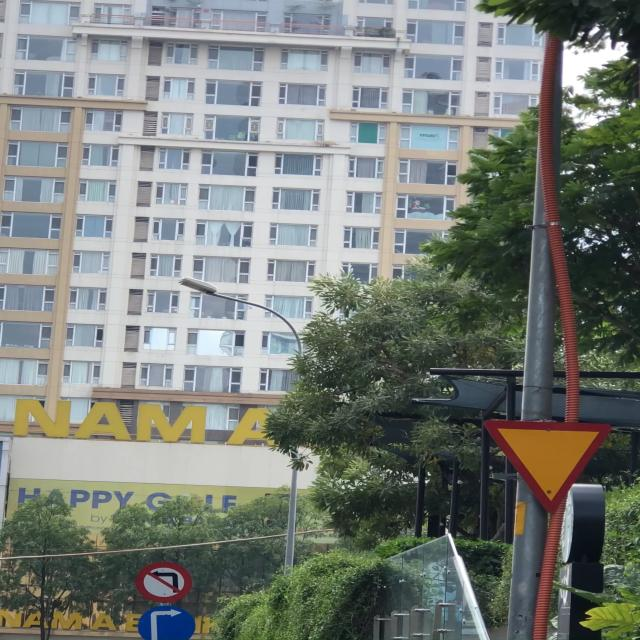Bien bao cam re trai: (131, 561, 197, 603)
Bien bao giao nhau voi duong uu tien: (474, 415, 612, 516)
Bien bao huong di phai theo: (138, 604, 201, 640)
